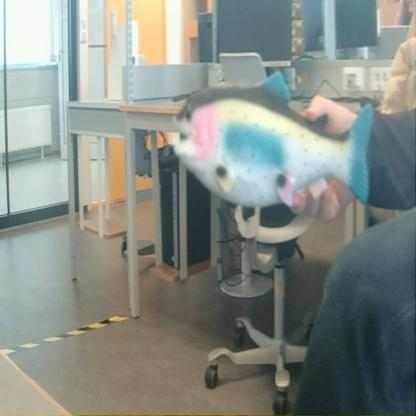rubberfish: (169, 67, 375, 217)
